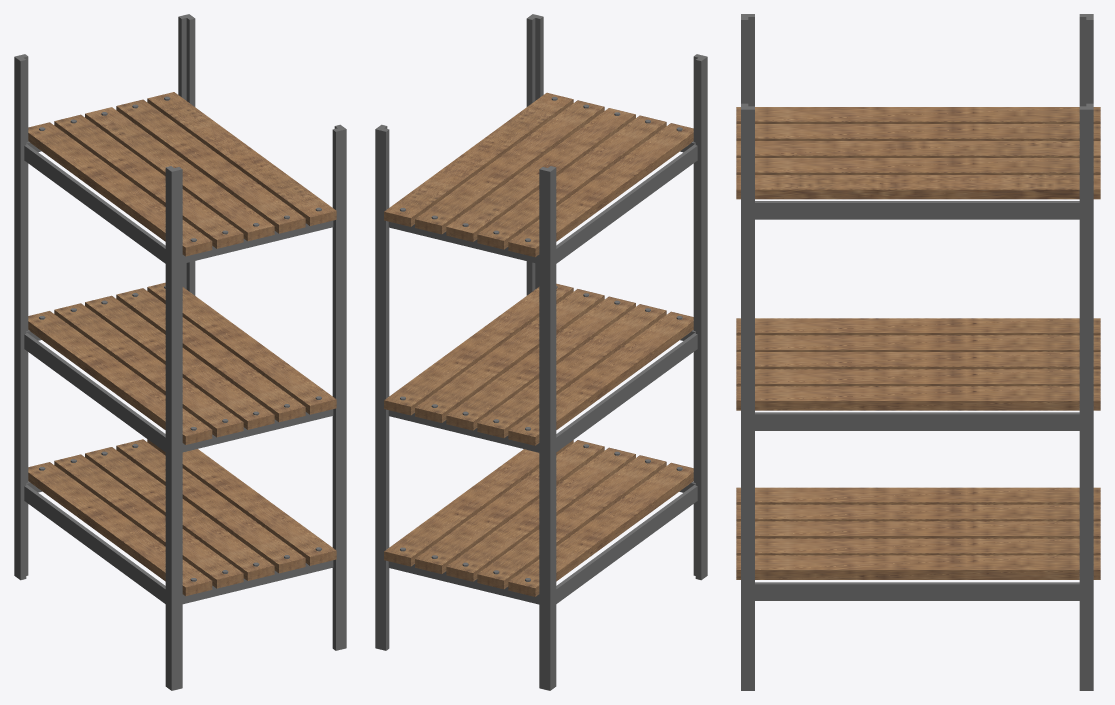
The model's file is stack.fbx.
The picture shows the model from 3 angles, left to right: view 1: azimuth 30°, elevation 25°; view 2: azimuth 150°, elevation 25°; view 3: azimuth 270°, elevation 25°; orthographic projection. The views are drawn at different scales.
Visible parts, largest first — view 1: Cube.006, Cube.005; view 2: Cube.006, Cube.005; view 3: Cube.006, Cube.005.
Boxes of the visible parts, x1=… form: Cube.006: x1=28, y1=92, x2=336, y2=596; Cube.005: x1=14, y1=14, x2=346, y2=690; Cube.006: x1=384, y1=92, x2=693, y2=596; Cube.005: x1=375, y1=14, x2=707, y2=690; Cube.006: x1=736, y1=107, x2=1100, y2=579; Cube.005: x1=741, y1=14, x2=1093, y2=690.
Size of the model in its own units: 393 by 1116 by 634.
2 materials, 1 textured.
